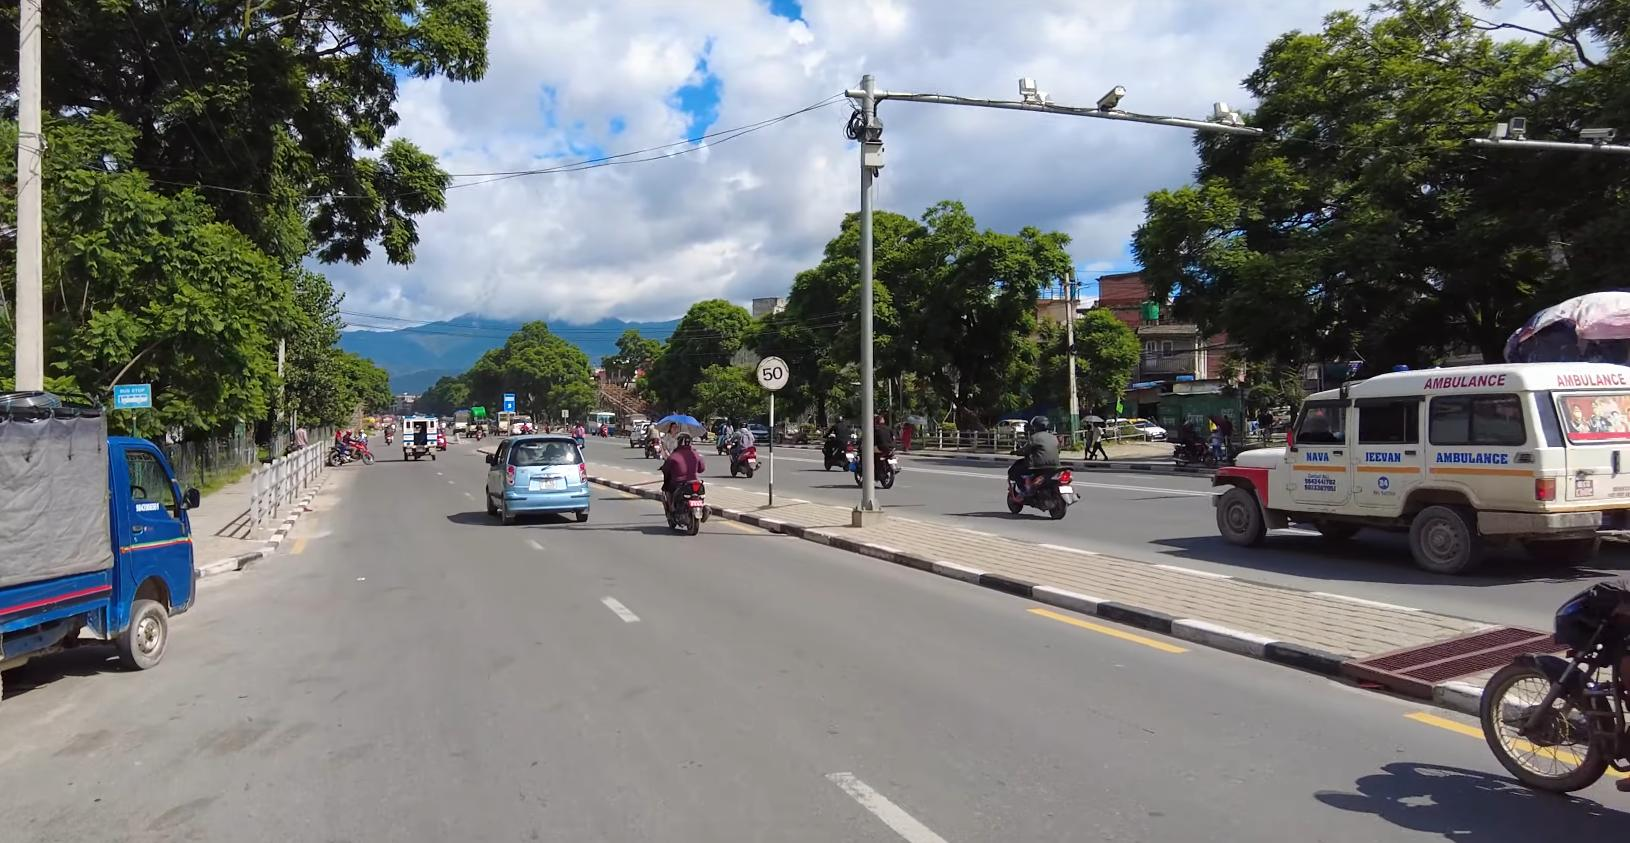ambulance: (1202, 353, 1630, 582)
bike: (325, 437, 378, 469)
car: (485, 431, 592, 527)
scooter: (1001, 448, 1079, 518), (661, 470, 713, 538), (726, 443, 763, 482)
tempo: (401, 416, 440, 461)
